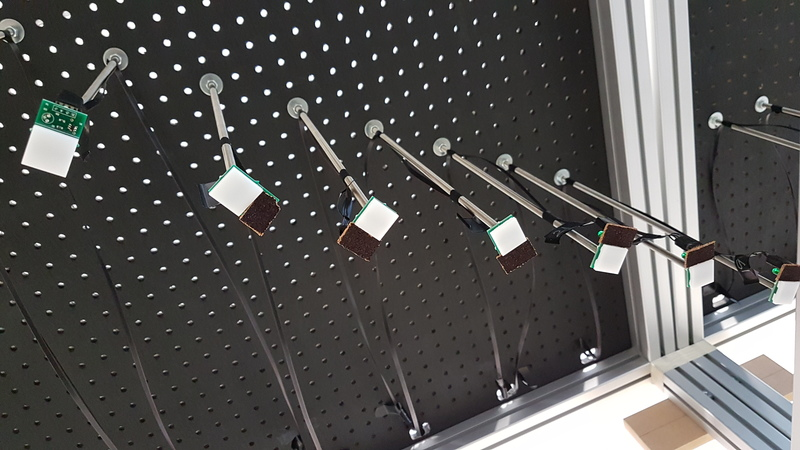target: (21, 122, 83, 183), (211, 168, 264, 221), (354, 194, 398, 242), (488, 214, 528, 259), (596, 242, 627, 278), (687, 258, 717, 290), (771, 279, 800, 309)
